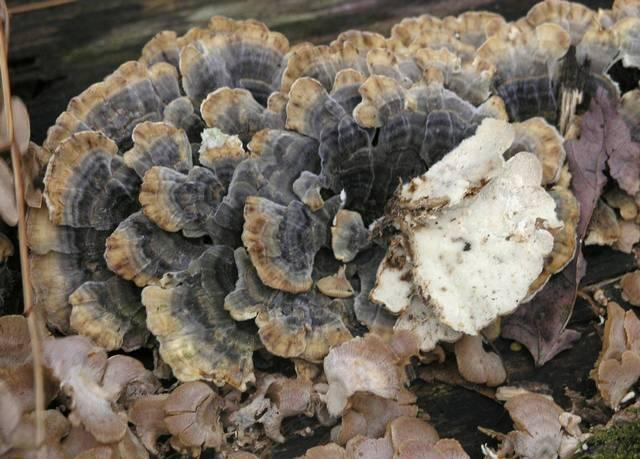Non-edible Mushroom: (2, 1, 638, 457), (368, 117, 572, 349)
